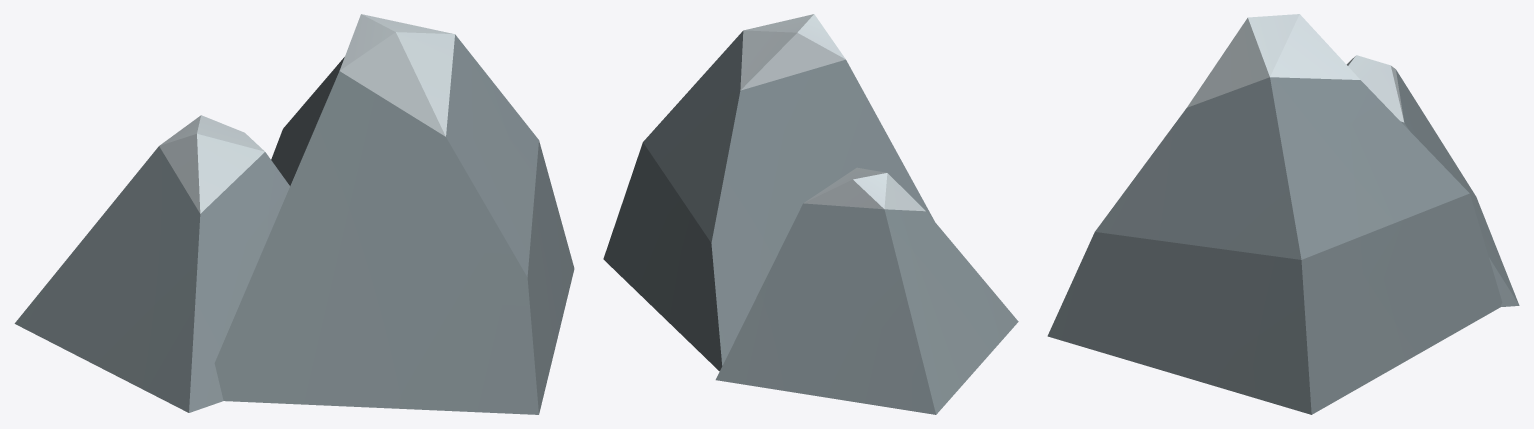
The model's file is Mountain.fbx.
3 views of the same model, side by side, from view 1: azimuth 30°, elevation 25°; view 2: azimuth 150°, elevation 25°; view 3: azimuth 270°, elevation 25° (orthographic). The views are drawn at different scales.
Visible parts, largest first — view 1: Mountain; view 2: Mountain; view 3: Mountain.
Boxes of the visible parts, <box> form: Mountain: <box>14,14,574,414</box>; Mountain: <box>603,14,1018,414</box>; Mountain: <box>1047,14,1519,414</box>.
Size of the model in its own units: 2507 by 1595 by 2267.
